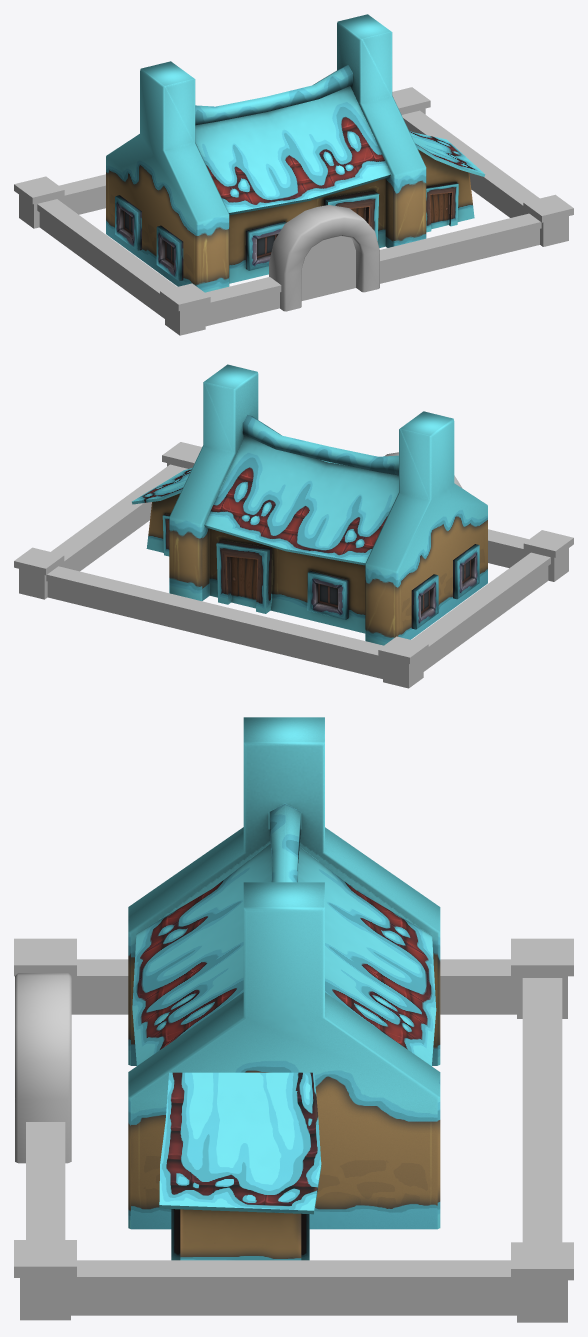
File: House5.FBX
3 views of the same model, one above another, from view 1: azimuth 30°, elevation 25°; view 2: azimuth 150°, elevation 25°; view 3: azimuth 270°, elevation 25° (orthographic). The views are drawn at different scales.
Parts seen in each view (by area): view 1: House5, Object317; view 2: House5, Object317; view 3: House5, Object317.
Boxes of the visible parts, x1,y1,x2,y2 form: House5: (106,14,485,292); Object317: (14,87,573,335); House5: (132,364,487,645); Object317: (14,442,573,688); House5: (128,717,440,1260); Object317: (14,938,573,1322).
Bounding box in the file's own units: 349 × 159 × 250.
